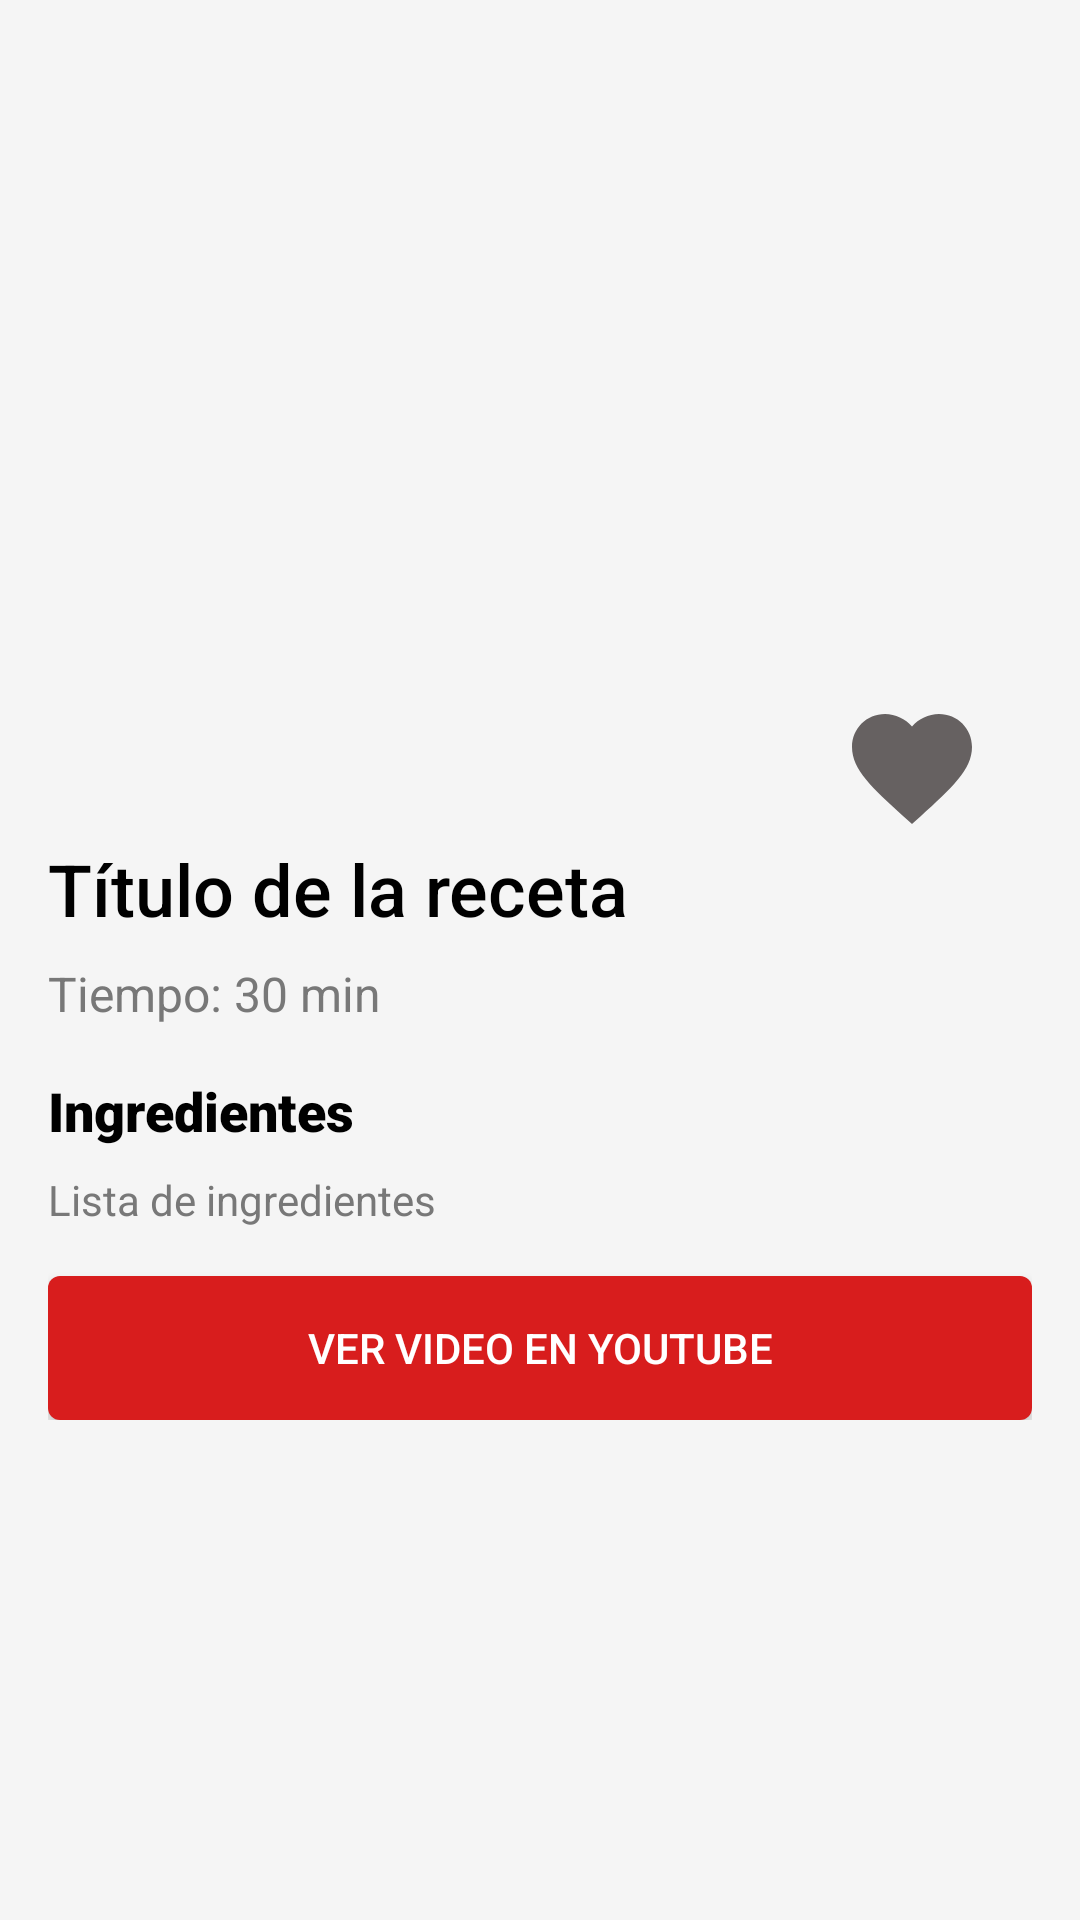

Locate icon controls on the screen. Image size 1080 × 1920, boxes as BBox(x1, y1, x2, y2).
add to favorite: BBox(852, 714, 972, 824)
